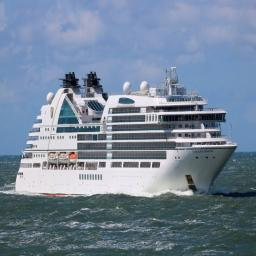cruises: (14, 68, 241, 204)
